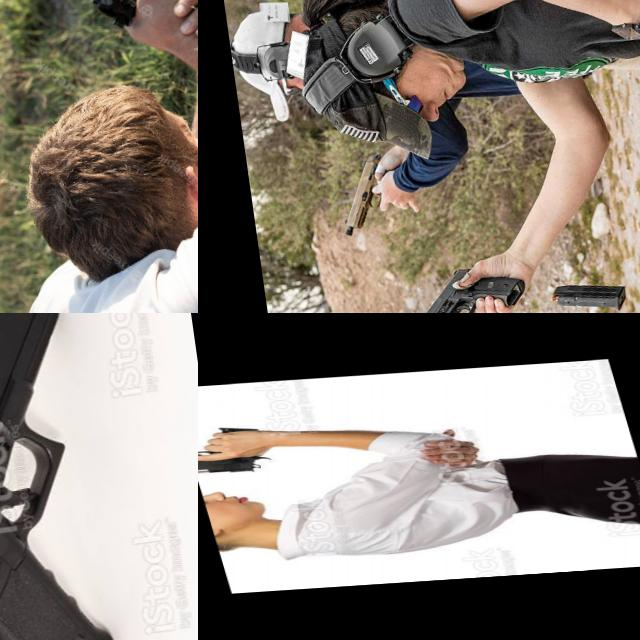handgun: (0, 313, 164, 640), (396, 256, 535, 313), (332, 150, 399, 238), (198, 422, 279, 477), (67, 0, 149, 54)
